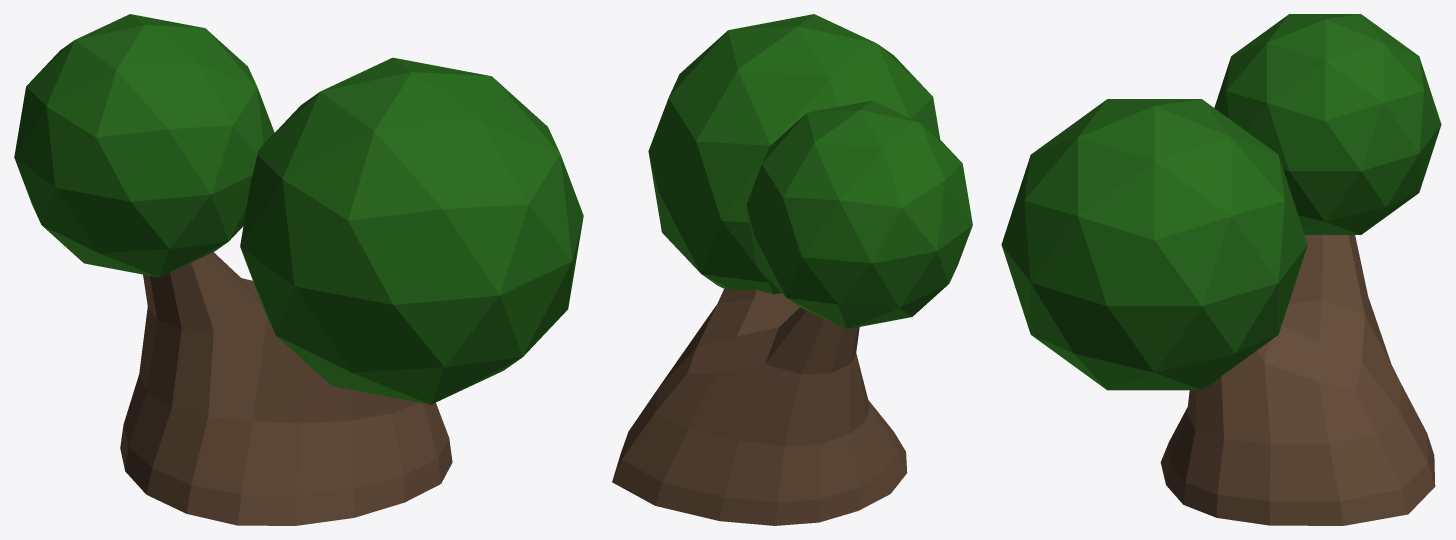
Rendered from Shrub 1.fbx.
The picture shows the model from 3 angles, left to right: view 1: azimuth 30°, elevation 25°; view 2: azimuth 150°, elevation 25°; view 3: azimuth 270°, elevation 25°; orthographic projection. The views are drawn at different scales.
Visible parts, largest first — view 1: Shrub 1; view 2: Shrub 1; view 3: Shrub 1.
Part boxes in pixels (x1=…): Shrub 1: x1=14, y1=14, x2=583, y2=525; Shrub 1: x1=612, y1=14, x2=972, y2=525; Shrub 1: x1=1001, y1=14, x2=1441, y2=525.
Bounding box in the file's own units: 110 × 114 × 114.
